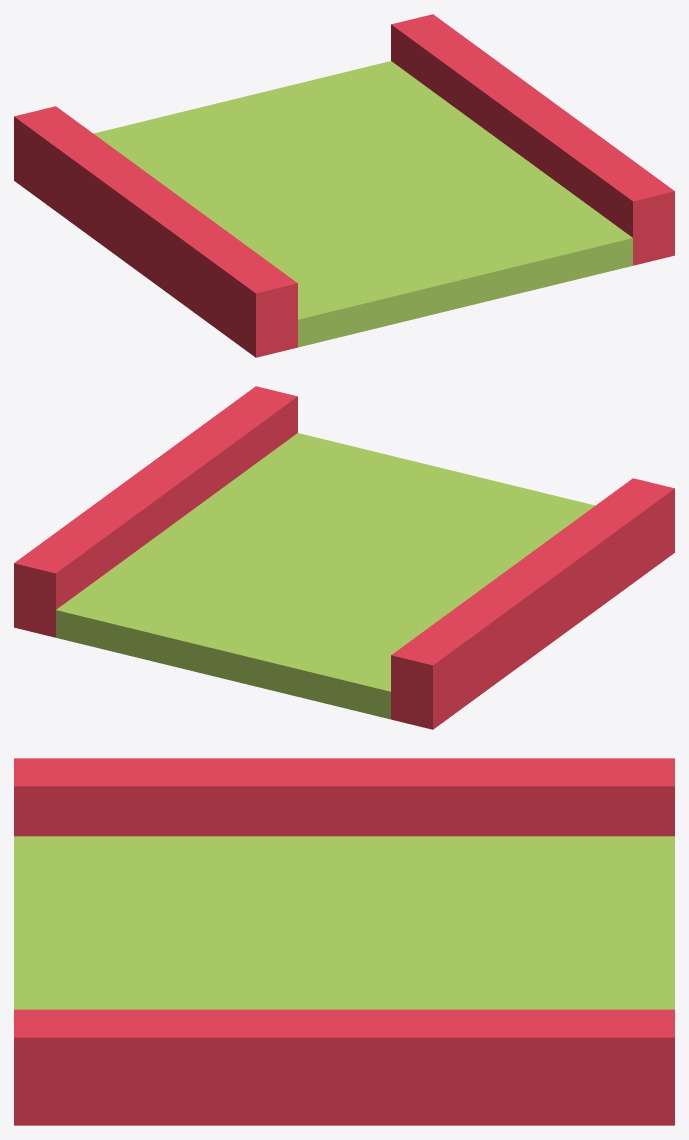
File: straight.fbx
The picture shows the model from 3 angles, top to bottom: view 1: azimuth 30°, elevation 25°; view 2: azimuth 150°, elevation 25°; view 3: azimuth 270°, elevation 25°; orthographic projection. The views are drawn at different scales.
Parts seen in each view (by area): view 1: straight; view 2: straight; view 3: straight.
Boxes of the visible parts, left/top/right/bottom form: straight: left=14, top=14, right=674, bottom=357; straight: left=14, top=386, right=674, bottom=729; straight: left=14, top=758, right=674, bottom=1125.
Size of the model in its own units: 10 by 1.47 by 10.
